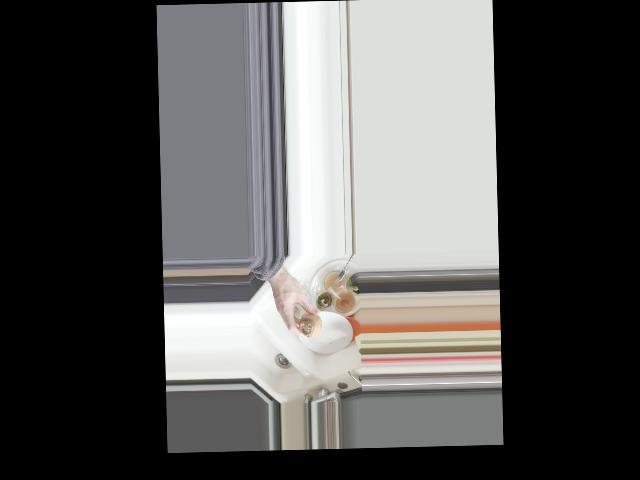sweet_potato: (297, 306, 323, 338)
